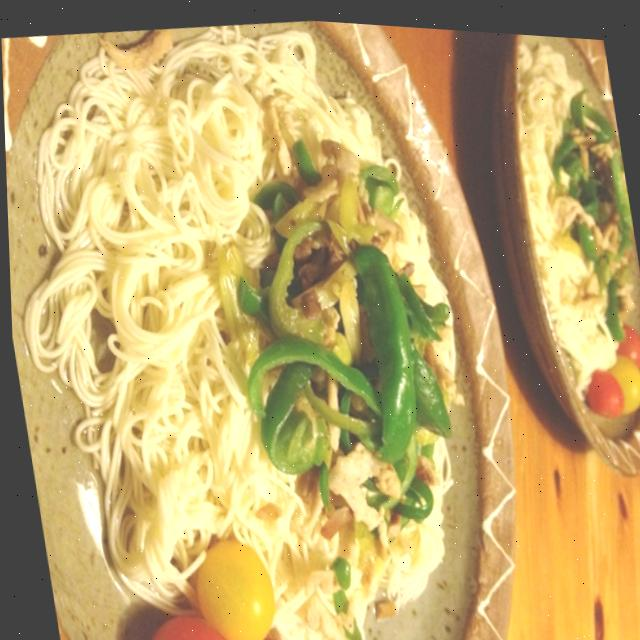汤锅炖物: (361, 19, 545, 77)
蔬菜料理: (72, 4, 381, 200)
